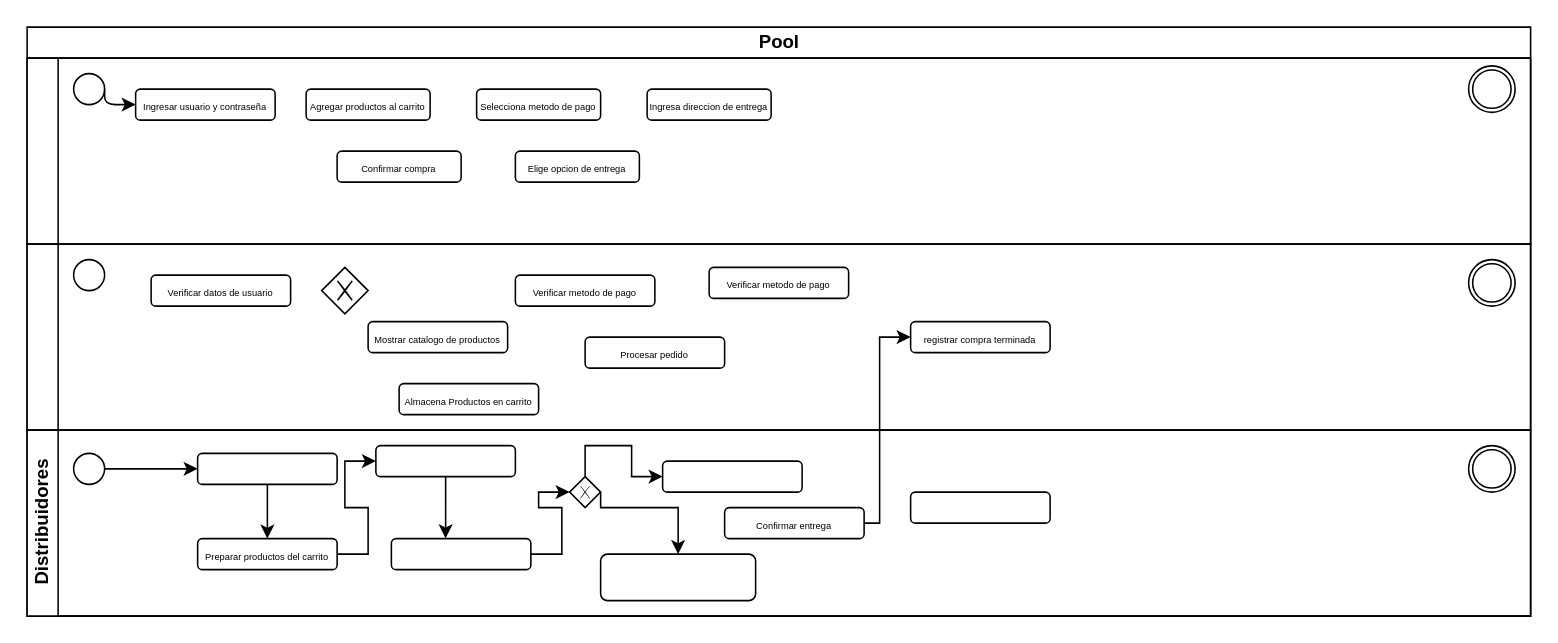
Some shapes in this 1558 by 643 pixel diagram are drawn without their labels. The shapes that lost their labels are listed below. From the top down, each one's box as (x1, y1, x2, y2) in pixels, then its label:
(26, 57, 1531, 244): Cliente
(26, 243, 1531, 430): Sistema de ventas
(196, 452, 337, 484): Reciben pedido
(374, 444, 515, 477): Empacan productos
(661, 460, 802, 492): Entrega a domicilio
(909, 491, 1050, 523): Recibir pago
(390, 537, 531, 570): Envian productos
(599, 553, 756, 601): Enteregar a cliente en sitio especificado
